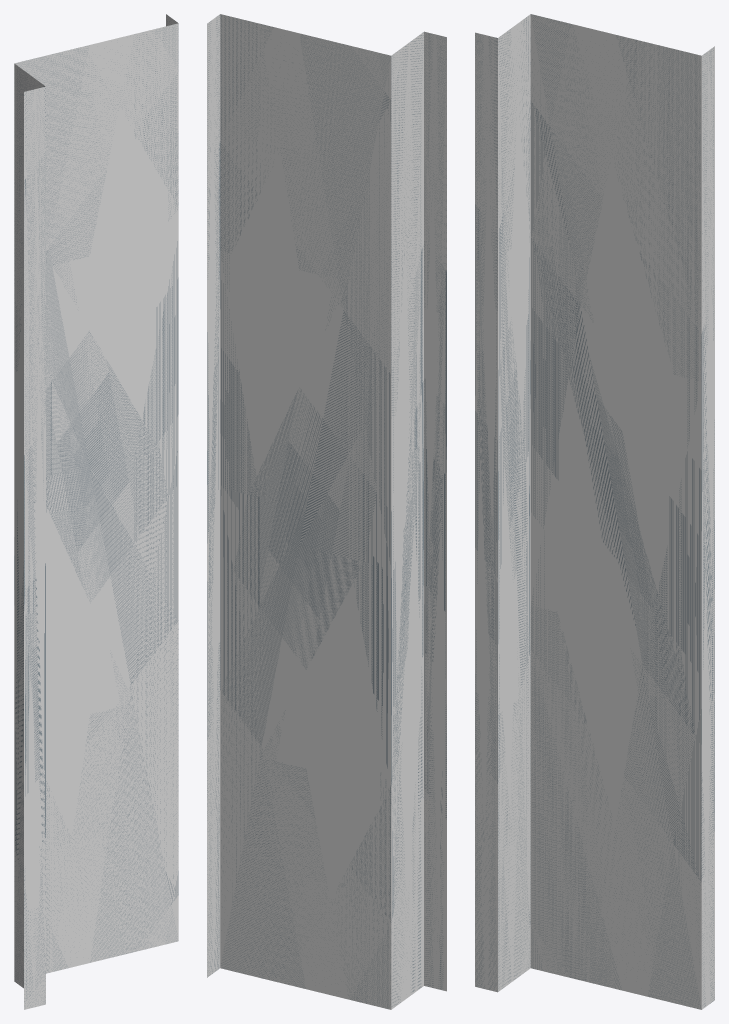
Rendered from PW_CornerFixElem_os_T3_035x085x010x400.dae.
The picture shows the model from 3 angles, left to right: view 1: azimuth 30°, elevation 25°; view 2: azimuth 150°, elevation 25°; view 3: azimuth 330°, elevation 25°; orthographic projection. The views are drawn at different scales.
Parts seen in each view (by area): view 1: group_0; view 2: group_0; view 3: group_0.
Part boxes in pixels (left/top/right/bottom): group_0: left=14, top=14, right=178, bottom=1009; group_0: left=207, top=14, right=446, bottom=1009; group_0: left=475, top=14, right=714, bottom=1009.
Size of the model in its own units: 33.46 by 13.78 by 157.
